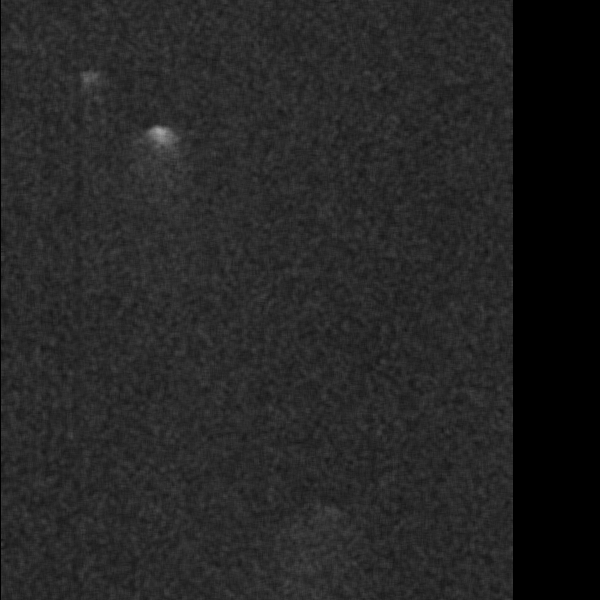spark: (72, 385, 106, 417)
